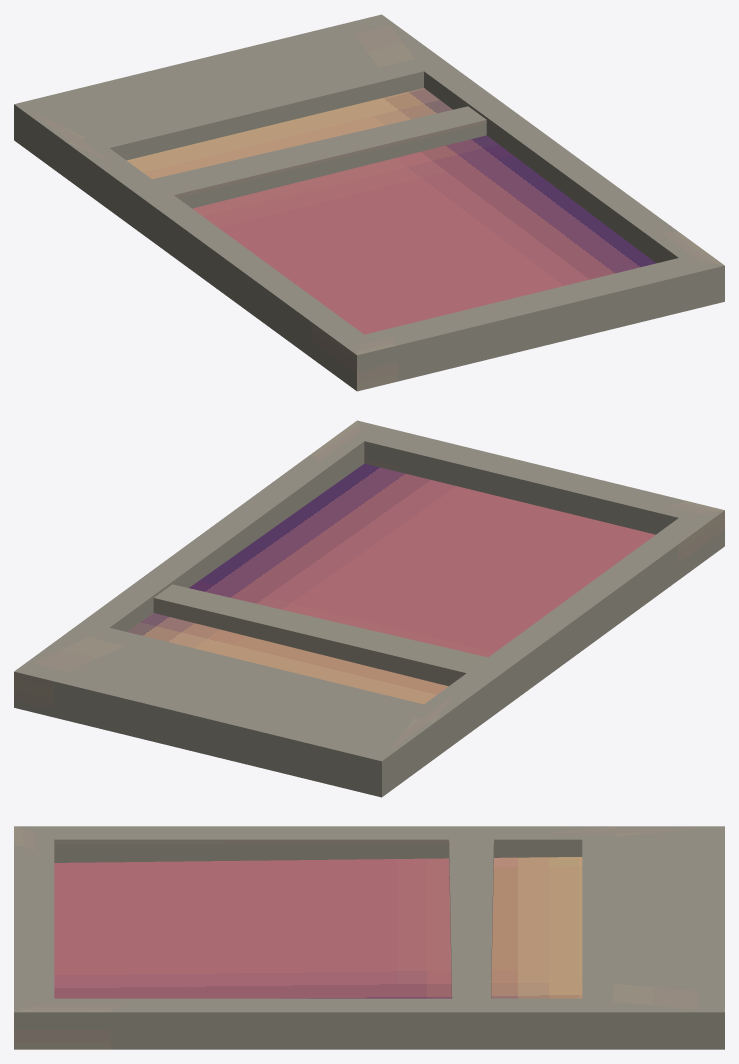
File: 125_DP_retailWindow3.gltf
3 views of the same model, one above another, from view 1: azimuth 30°, elevation 25°; view 2: azimuth 150°, elevation 25°; view 3: azimuth 270°, elevation 25° (orthographic). The views are drawn at different scales.
Parts seen in each view (by area): view 1: DP_retailWindow3; view 2: DP_retailWindow3; view 3: DP_retailWindow3.
Boxes of the visible parts, x1,y1,x2,y2 form: DP_retailWindow3: [14, 14, 724, 391]; DP_retailWindow3: [14, 420, 724, 797]; DP_retailWindow3: [14, 826, 724, 1049].
Bounding box in the file's own units: 4.74 × 0.4453 × 7.66.
Materials: 1 (1 with a texture image).
